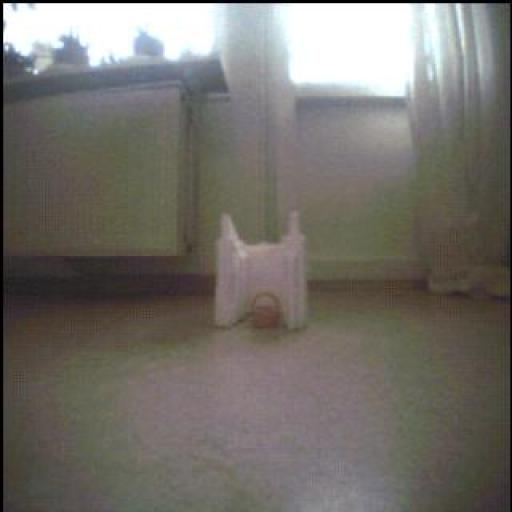Basket: (252, 292, 283, 329)
